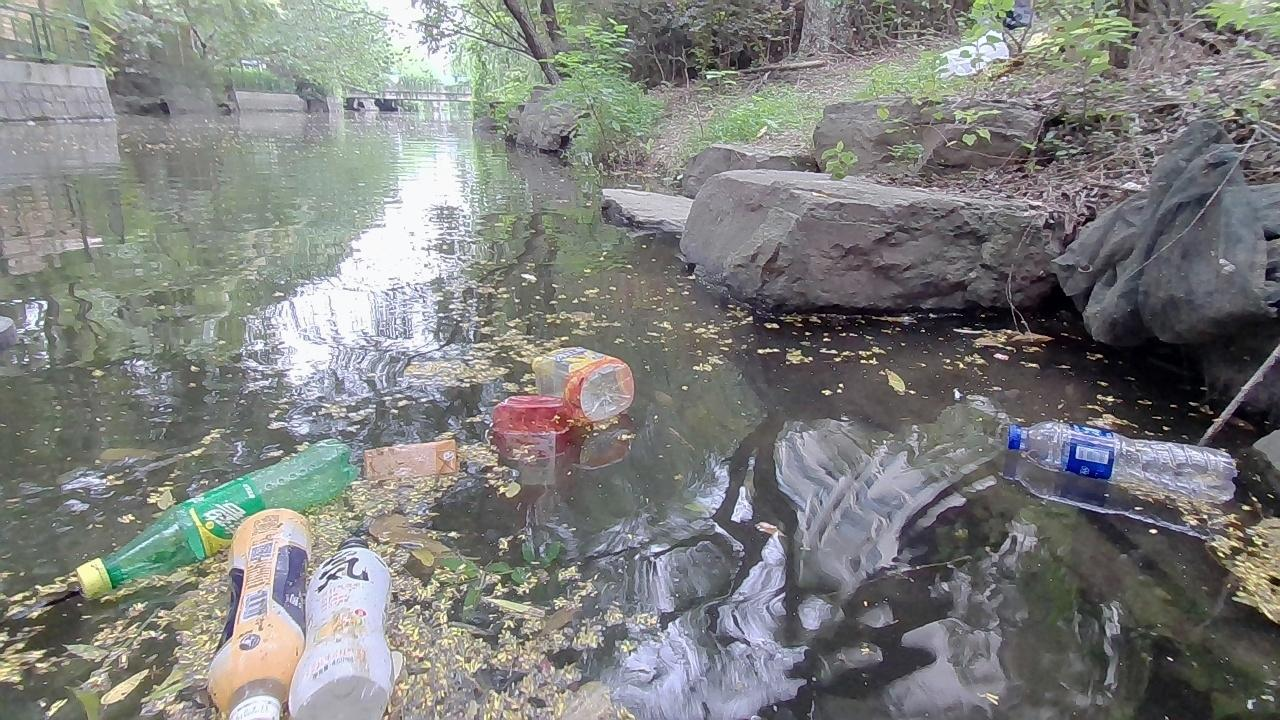Plastic: (72, 438, 362, 600), (205, 505, 318, 720), (1005, 419, 1239, 505), (287, 534, 395, 720), (530, 347, 636, 423), (490, 394, 574, 434)
Trash: (364, 437, 459, 481)
